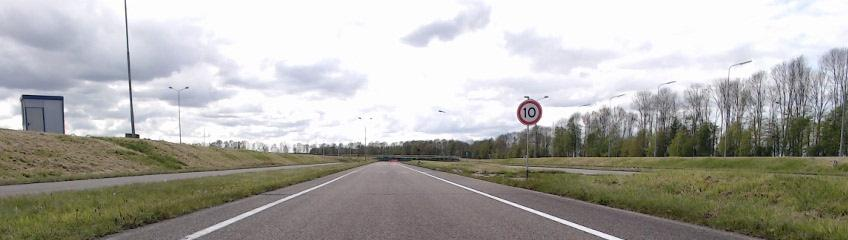Speed-limit-10km-h-: (517, 101, 542, 124)
